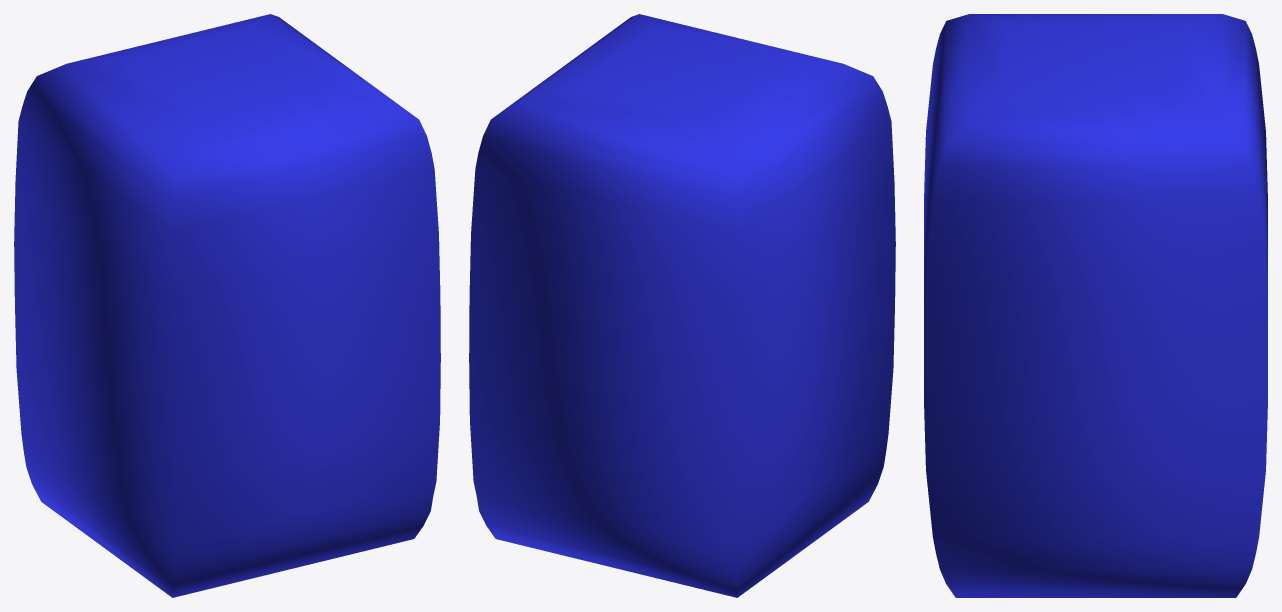
Rendered from FarinaZero500g.fbx.
3 views of the same model, side by side, from view 1: azimuth 30°, elevation 25°; view 2: azimuth 150°, elevation 25°; view 3: azimuth 270°, elevation 25° (orthographic). The views are drawn at different scales.
Parts seen in each view (by area): view 1: FarinaBianca500g; view 2: FarinaBianca500g; view 3: FarinaBianca500g.
Part boxes in pixels (bbox=[...]): FarinaBianca500g: bbox=[14, 14, 440, 597]; FarinaBianca500g: bbox=[469, 14, 895, 597]; FarinaBianca500g: bbox=[924, 14, 1267, 597].
Bounding box in the file's own units: 300 × 482 × 315.
